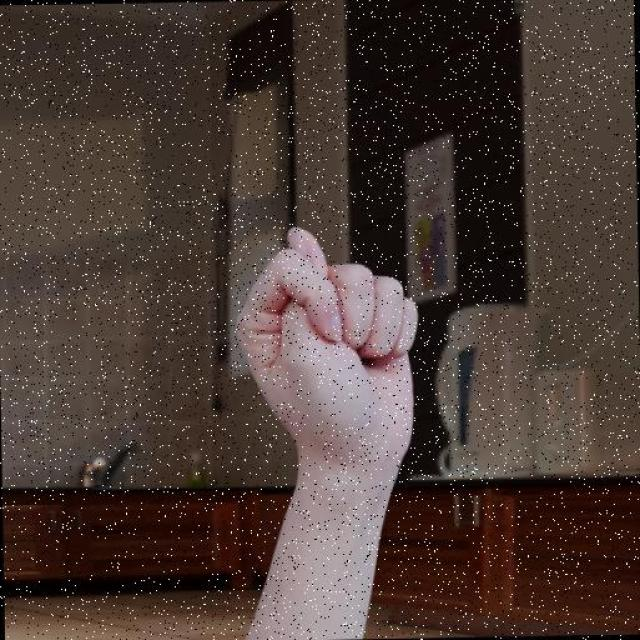T: (230, 221, 430, 481)
